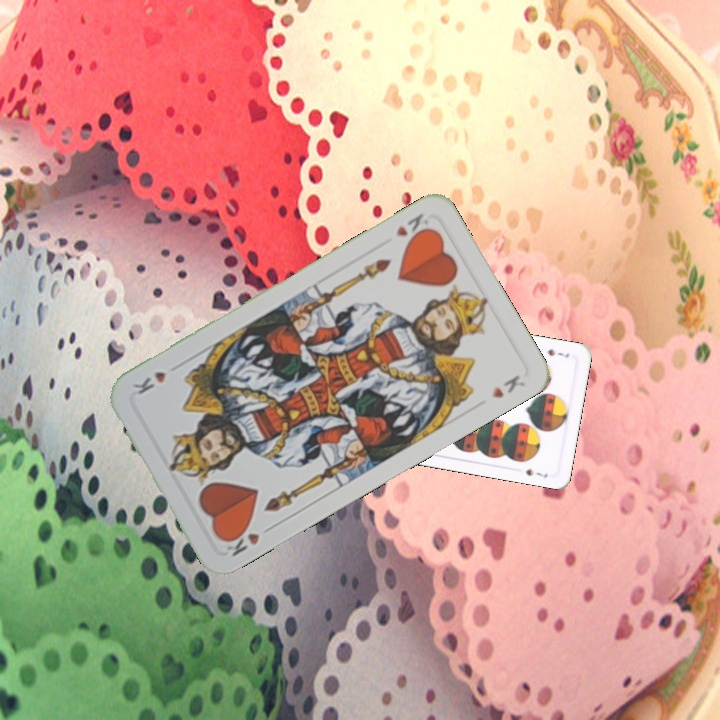HK: (220, 520, 263, 559), (391, 209, 434, 246)
S7: (544, 345, 572, 360)
